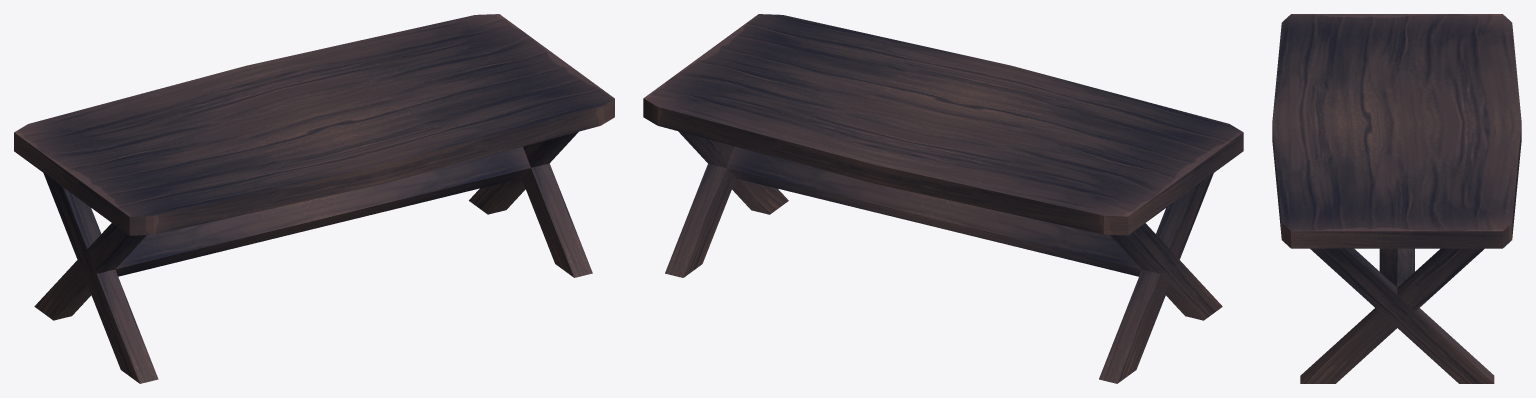
The model's file is Table_B_1x2.fbx.
The picture shows the model from 3 angles, left to right: view 1: azimuth 30°, elevation 25°; view 2: azimuth 150°, elevation 25°; view 3: azimuth 270°, elevation 25°; orthographic projection. The views are drawn at different scales.
Visible parts, largest first — view 1: Table_B_1x2; view 2: Table_B_1x2; view 3: Table_B_1x2.
Boxes of the visible parts, x1=… form: Table_B_1x2: x1=14, y1=14, x2=614, y2=383; Table_B_1x2: x1=643, y1=14, x2=1243, y2=383; Table_B_1x2: x1=1272, y1=14, x2=1521, y2=383.
Bounding box in the file's own units: 0.6266 × 0.2154 × 0.304.
